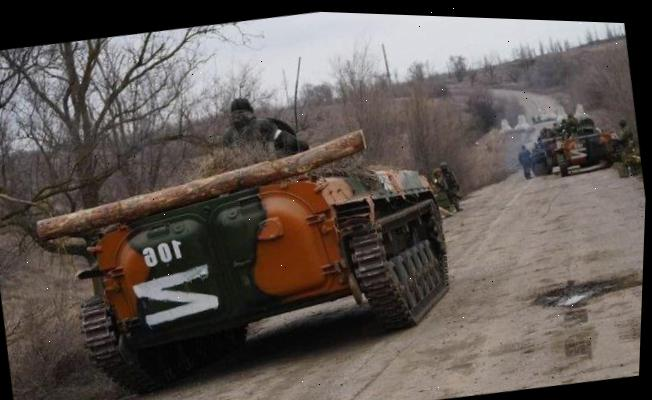person: (433, 157, 463, 217), (612, 114, 638, 181), (513, 142, 534, 180)
tank: (54, 94, 462, 400), (547, 114, 625, 179), (526, 131, 566, 186)
